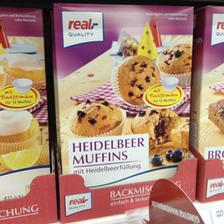Kuchen: (50, 0, 192, 188), (0, 5, 48, 186)
